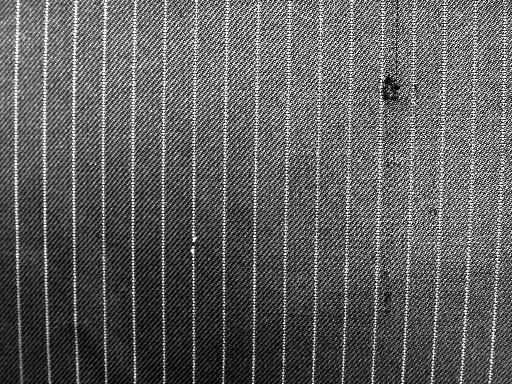fabric_hole: (373, 260, 416, 327), (369, 70, 432, 109), (372, 66, 420, 114), (378, 274, 413, 328)
